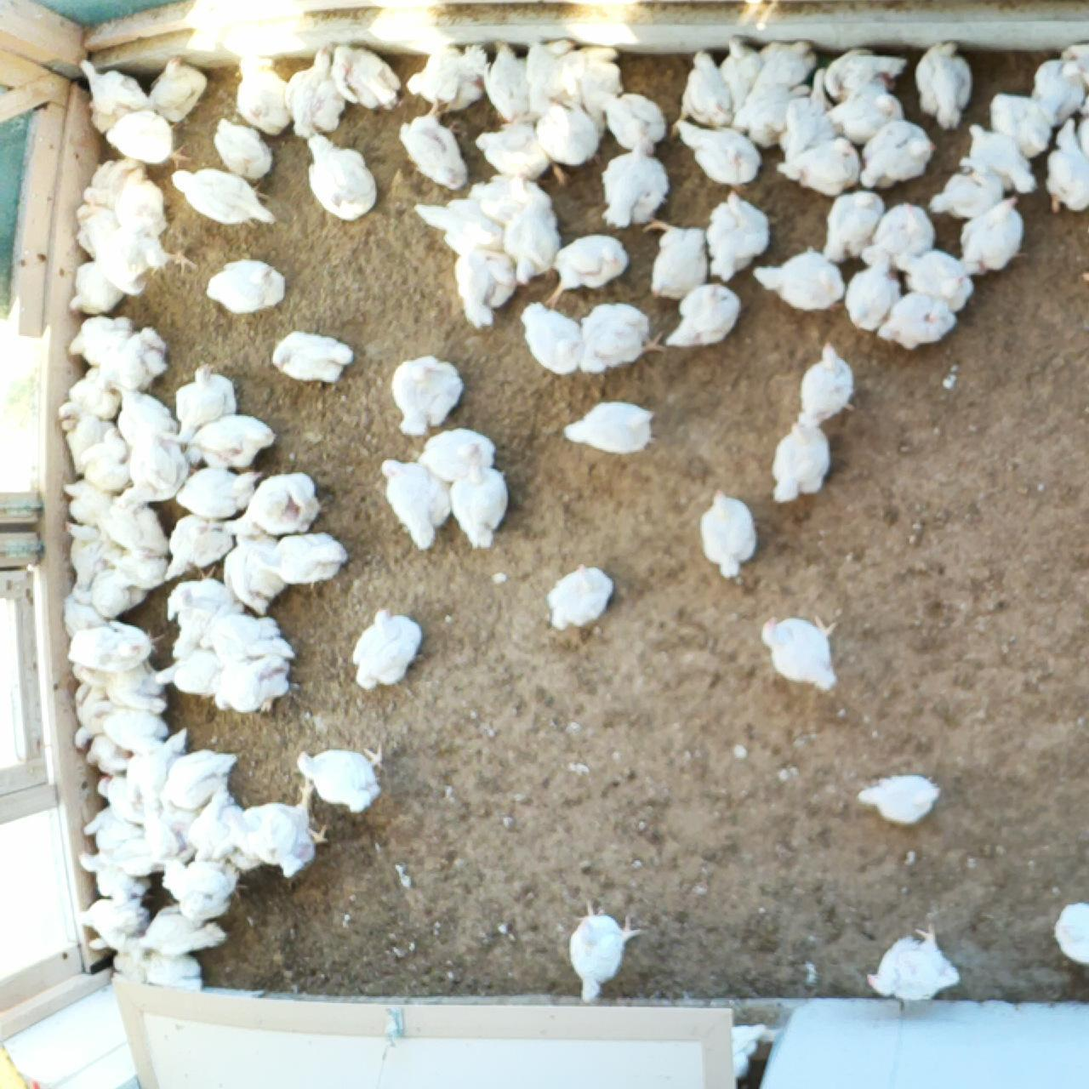chicken: (77, 351, 184, 430), (550, 389, 680, 454), (296, 133, 385, 225), (860, 918, 970, 991), (755, 613, 848, 698), (191, 603, 295, 675), (697, 188, 776, 282), (237, 465, 319, 555), (382, 454, 458, 551), (390, 106, 481, 185), (675, 107, 761, 189), (543, 915, 633, 992), (237, 801, 324, 878), (695, 487, 763, 585), (443, 453, 511, 551), (600, 142, 670, 235), (481, 45, 558, 128), (405, 48, 499, 114), (871, 282, 961, 350), (752, 41, 810, 145), (542, 561, 629, 630), (291, 745, 393, 802), (419, 191, 510, 254), (94, 162, 177, 231), (797, 348, 868, 428), (570, 300, 651, 369), (954, 200, 1019, 285), (519, 297, 587, 377), (102, 494, 168, 576), (83, 713, 187, 765), (898, 242, 976, 311), (859, 200, 945, 262), (961, 123, 1034, 196), (753, 242, 837, 305), (264, 328, 355, 386), (385, 346, 453, 423), (445, 248, 513, 325), (54, 405, 121, 482), (537, 106, 624, 165), (145, 904, 229, 965), (174, 465, 254, 529), (92, 222, 173, 285), (680, 46, 740, 131), (763, 419, 830, 495), (818, 45, 902, 105), (349, 608, 416, 683), (858, 769, 938, 831), (169, 178, 269, 227), (477, 116, 557, 177), (332, 46, 408, 110), (983, 84, 1054, 152), (773, 140, 864, 193), (157, 861, 244, 916), (67, 621, 159, 673), (282, 60, 346, 134), (670, 281, 733, 356), (923, 174, 1016, 224), (179, 413, 268, 465), (841, 254, 900, 332), (111, 380, 176, 450), (82, 67, 154, 130), (915, 41, 969, 123), (231, 62, 292, 134), (550, 48, 624, 107), (169, 510, 235, 576), (833, 88, 913, 142), (419, 427, 496, 483), (1042, 122, 1089, 213), (1029, 55, 1089, 126), (557, 232, 624, 295), (106, 111, 177, 170), (256, 538, 351, 582), (209, 258, 282, 315), (169, 366, 234, 430), (169, 576, 235, 638), (720, 41, 773, 116), (602, 93, 664, 157), (171, 807, 238, 866), (465, 174, 544, 224), (204, 664, 293, 708), (858, 120, 923, 180), (214, 120, 276, 181), (504, 214, 558, 284), (84, 807, 159, 857), (161, 755, 233, 807), (79, 847, 152, 898), (123, 447, 184, 508), (145, 57, 207, 117), (125, 941, 218, 977), (75, 897, 144, 945), (94, 771, 157, 823), (159, 648, 221, 698), (218, 537, 261, 607), (818, 190, 872, 245), (67, 313, 123, 365), (79, 265, 126, 313), (1052, 899, 1088, 959)
